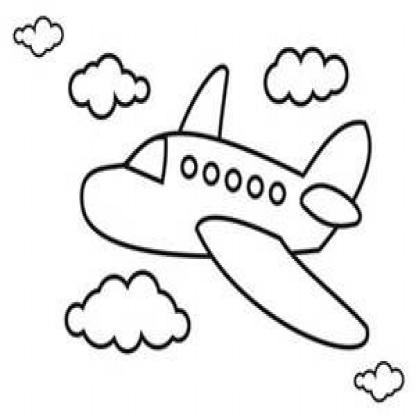CIV_Plane: (77, 55, 374, 354)
